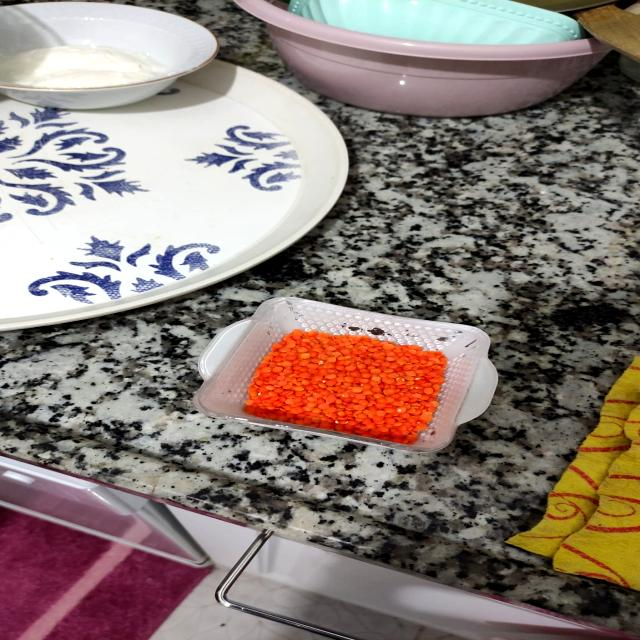red lentils: (176, 287, 524, 453)
